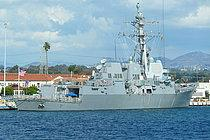MIL_Ship: (11, 1, 199, 112)
